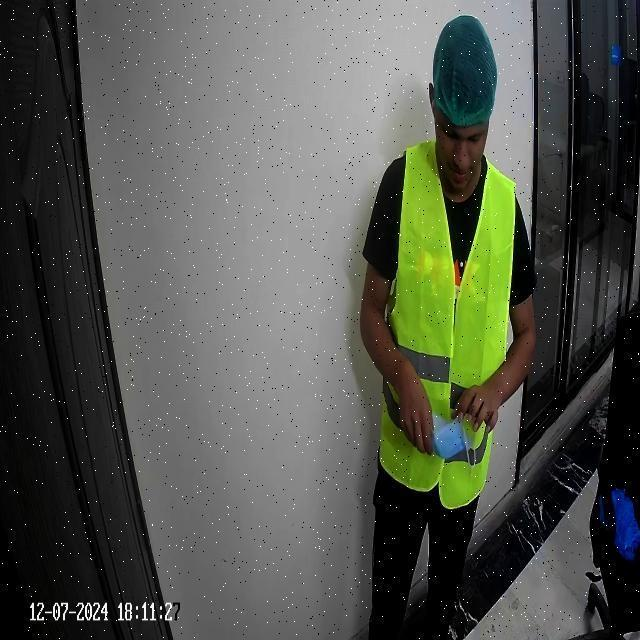gloves: (424, 12, 496, 127)
no_apron: (448, 372, 508, 424), (389, 373, 431, 446)
no_hairnet: (434, 144, 492, 196)
